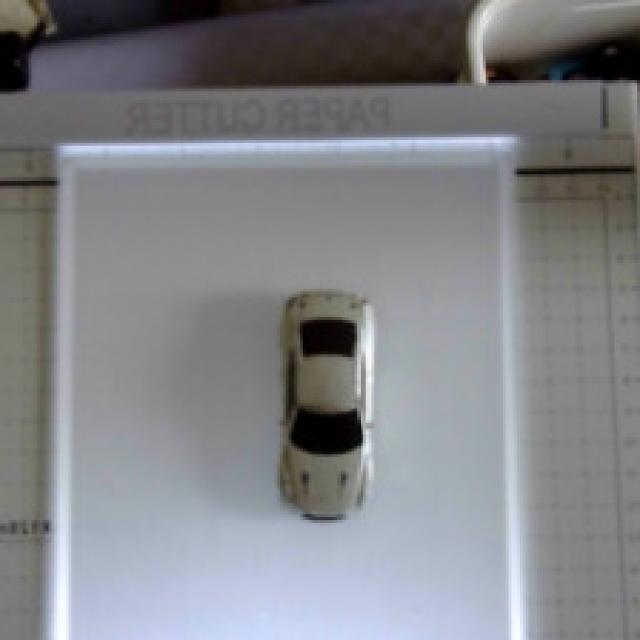Grey Car: (167, 252, 486, 548)
